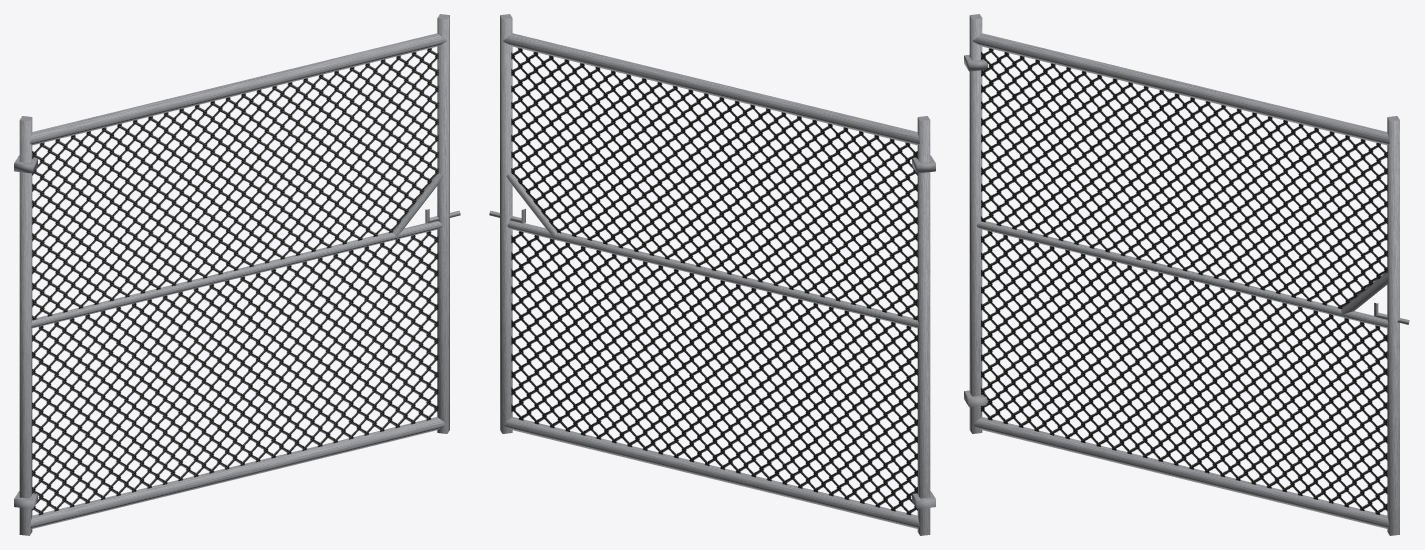
File: fence-tall-gate-2m-cbj_LOD02.gltf
The picture shows the model from 3 angles, left to right: view 1: azimuth 30°, elevation 25°; view 2: azimuth 150°, elevation 25°; view 3: azimuth 330°, elevation 25°; orthographic projection.
Parts seen in each view (by area): view 1: gate2; view 2: gate2; view 3: gate2.
Part boxes in pixels (x1,y1,x2,y2): gate2: [14, 14, 460, 535]; gate2: [489, 14, 935, 535]; gate2: [964, 14, 1409, 535].
Size of what is drawn, in the model's own units: 2.08 by 1.85 by 0.1109.
